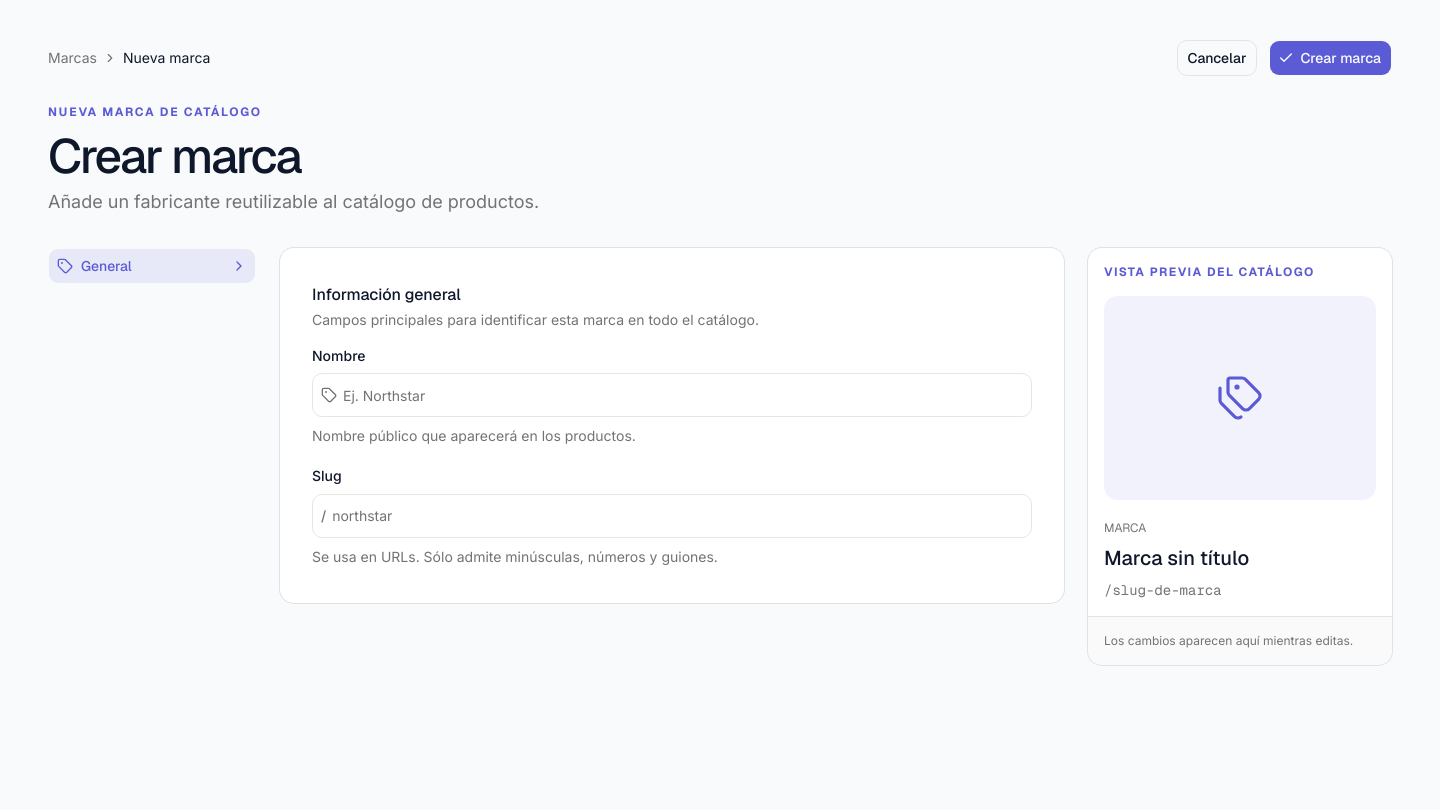
Test case: BrandForm › validates required fields before submitting
Click the button "Crear marca" at (1331, 58), box [1269,40,1392,76]
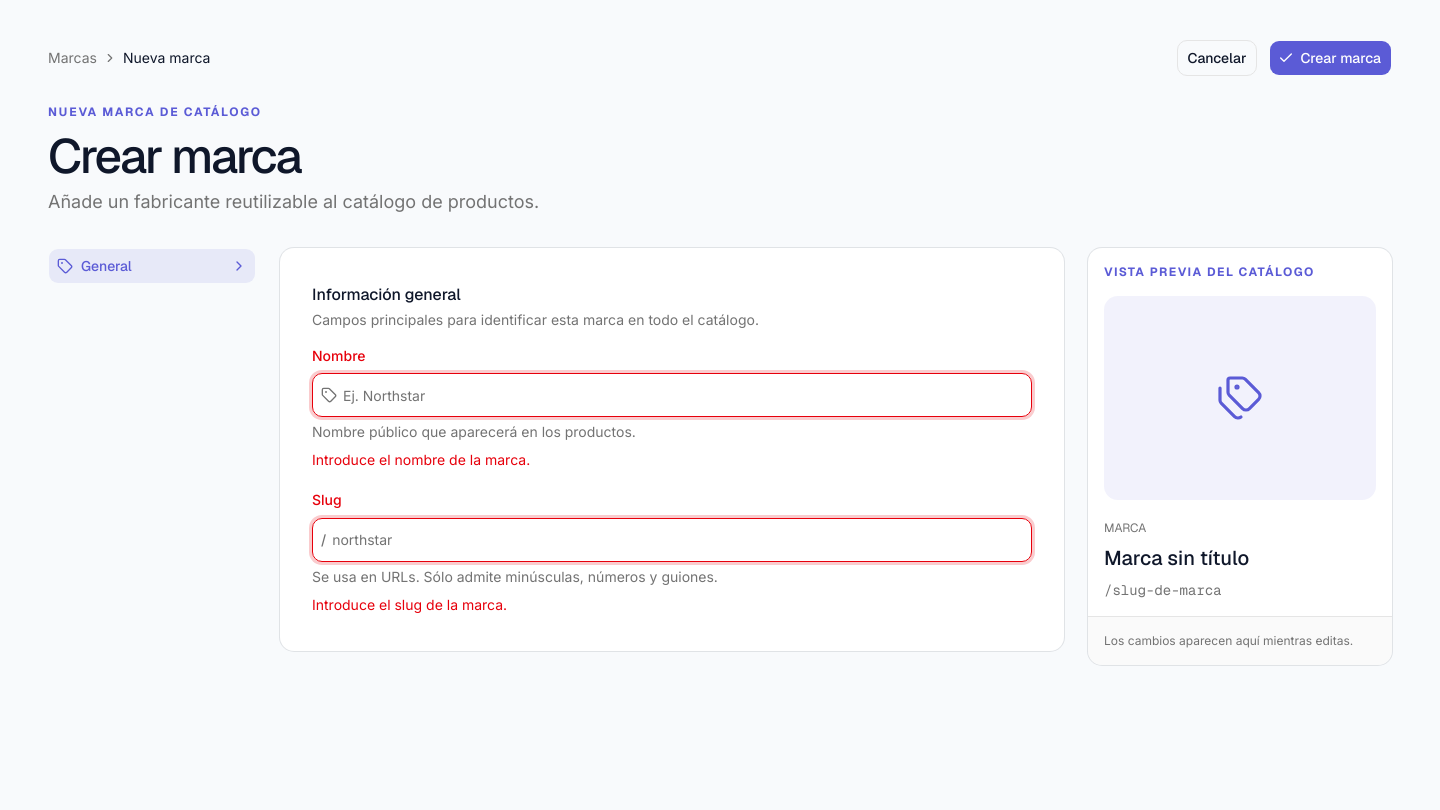
Check: the text "Introduce el nombre de la marca." is shown, box [312,451,530,468]
Check: the text "Introduce el slug de la marca." is shown, box [312,596,507,612]
